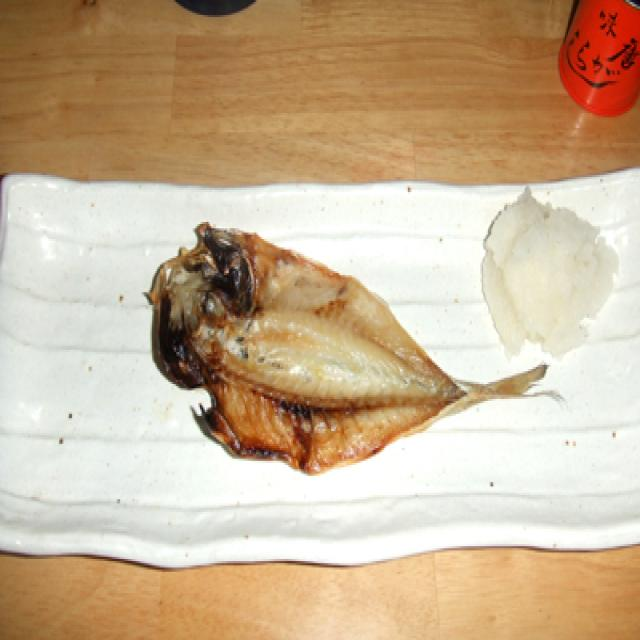熟制海鲜: (144, 222, 571, 478)
